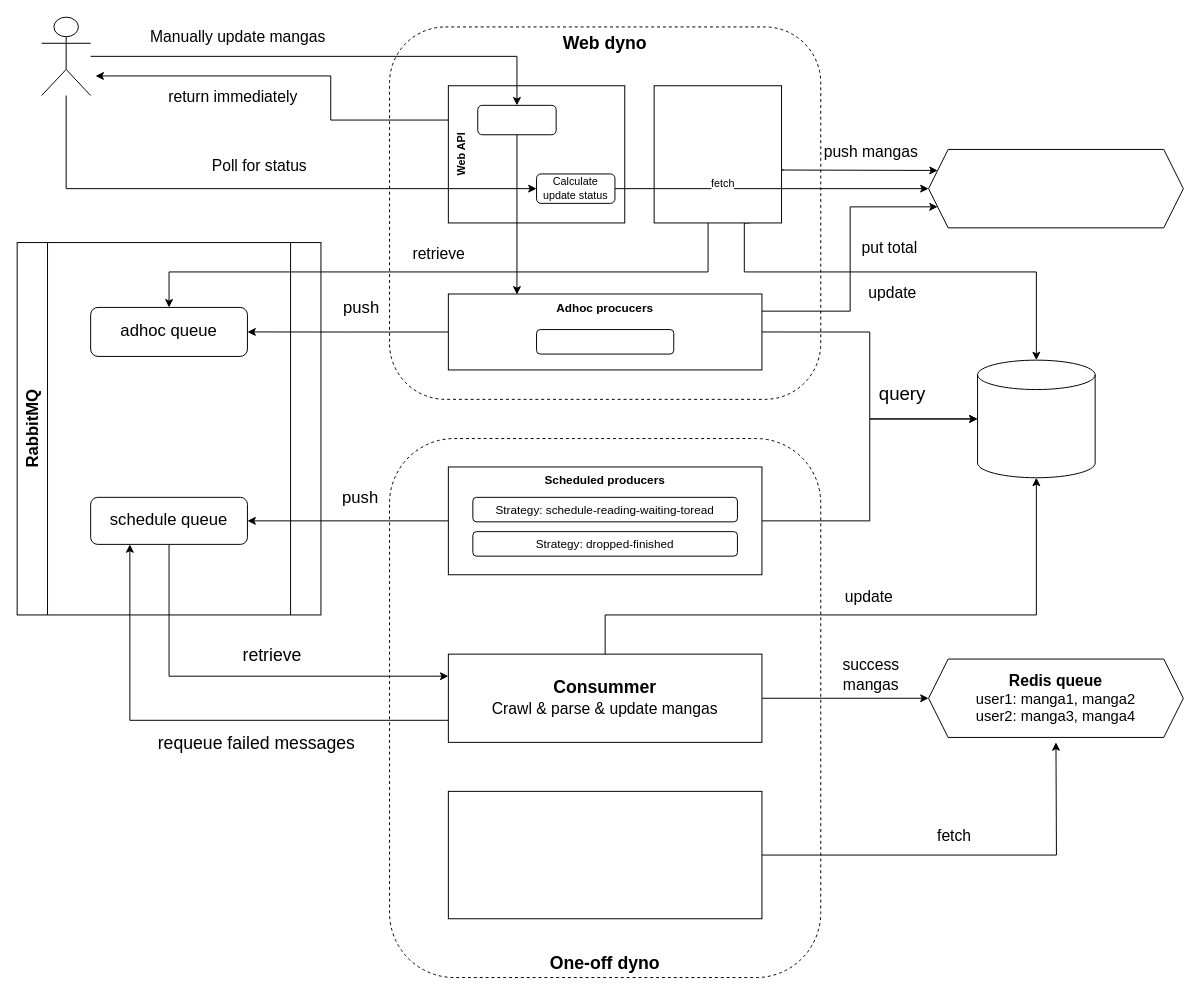
Some shapes in this 1201 by 995 pixel diagram are drawn without their labels. Each missing label, with the centre of its shape:
"Call adhoc producer" goes at (x=516, y=119).
"Consumer Crawl & parse & update manga" goes at (x=717, y=154).
"Mongo DB" goes at (x=1036, y=418).
"Pipeline Report Web push notification Email Facebook/Telegram bot" goes at (x=604, y=854).
"Redis queue user1-mangas: manga1, manga2 user1: total_manga" goes at (x=1055, y=188).
"Strategy: adhoc-user" goes at (x=605, y=341).
"User" goes at (x=66, y=56).
